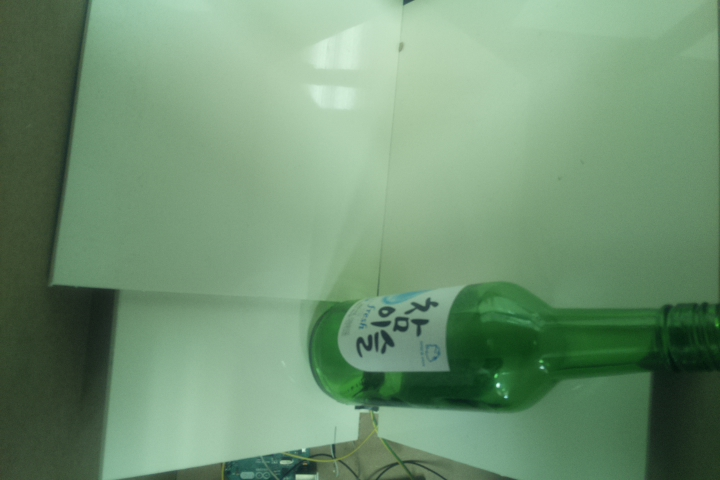soju: (306, 281, 720, 415)
